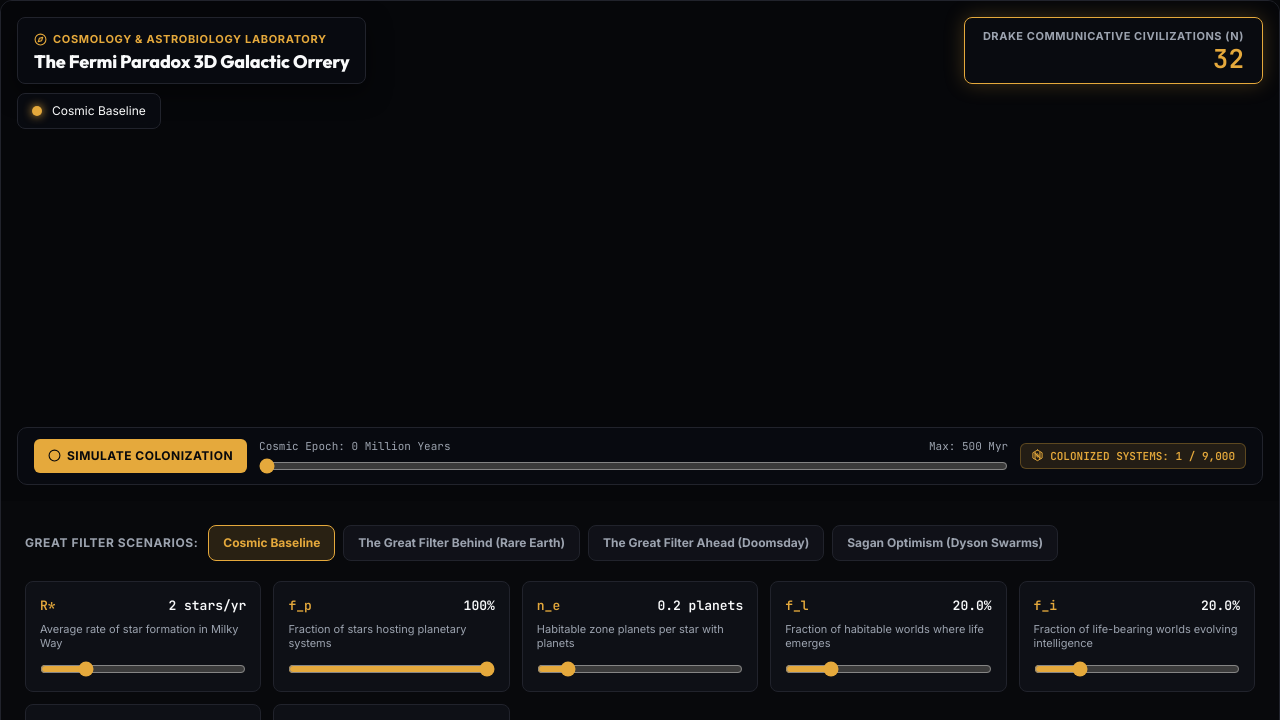
Test case: FermiParadox3DLab › allows switching Great Filter scenarios and updates parameters
What coordinates should you click on to do the following:
click the button "The Great Filter Behind (Rare Earth)"
I would click on:
 (462, 543)
Its box is x1=343 y1=525 x2=580 y2=561.
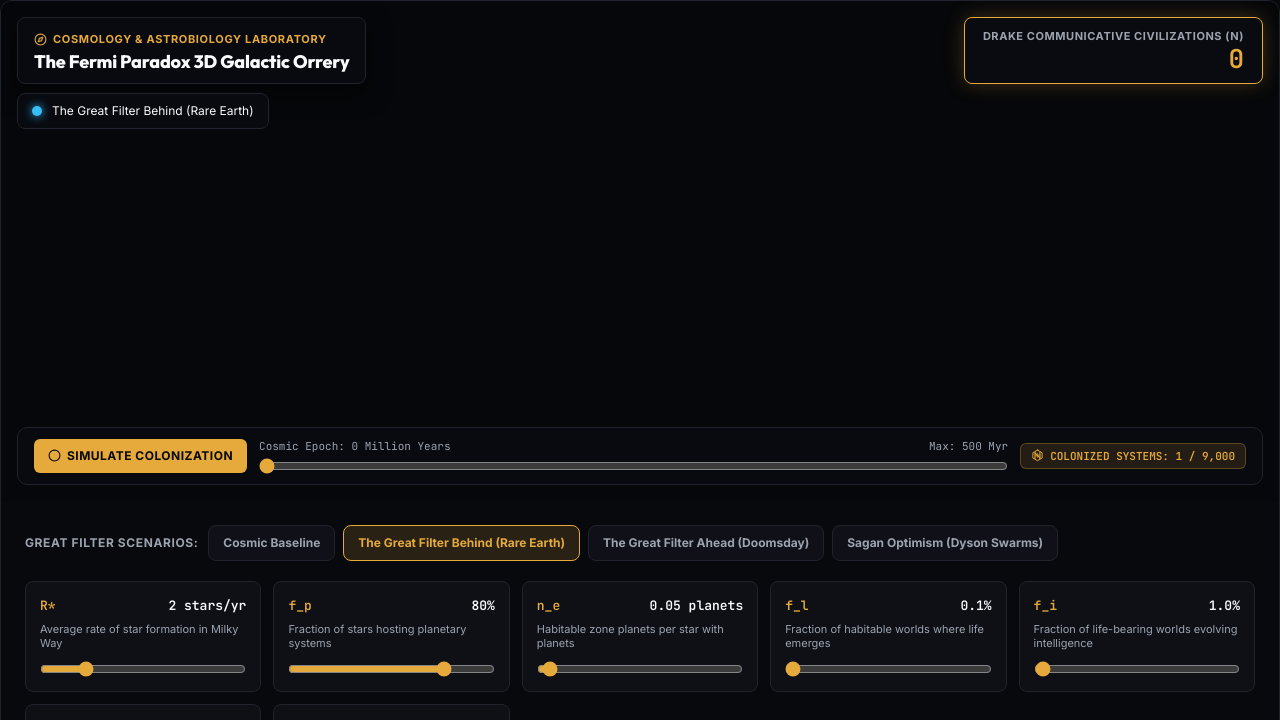
Expected: the text "The Great Filter Behind (Rare Earth)" below "The Fermi Paradox 3D Galactic Orrery" is shown, x1=52 y1=103 x2=254 y2=118
What coordinates should you click on to do the following:
click the button "The Great Filter Ahead (Doomsday)"
I would click on:
 (706, 543)
Its box is x1=588 y1=525 x2=824 y2=561.
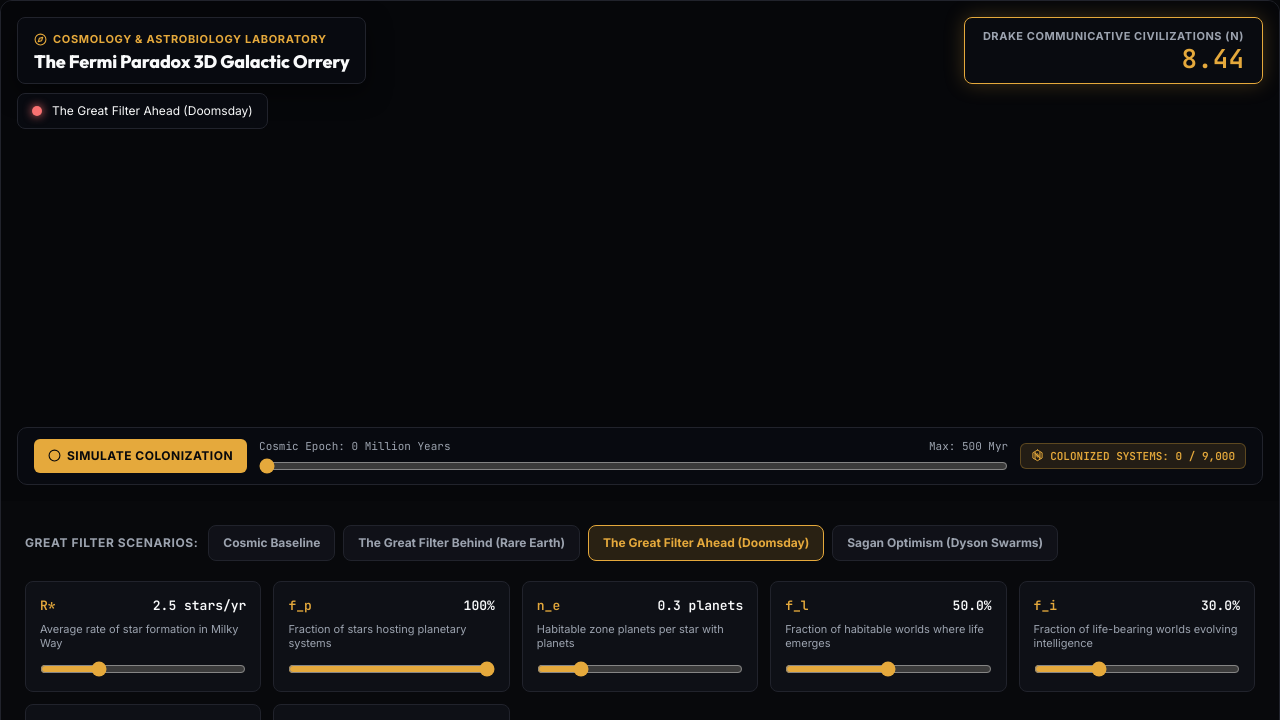
Expected: the text "The Great Filter Ahead (Doomsday)" below "The Fermi Paradox 3D Galactic Orrery" is shown, x1=52 y1=103 x2=253 y2=118
